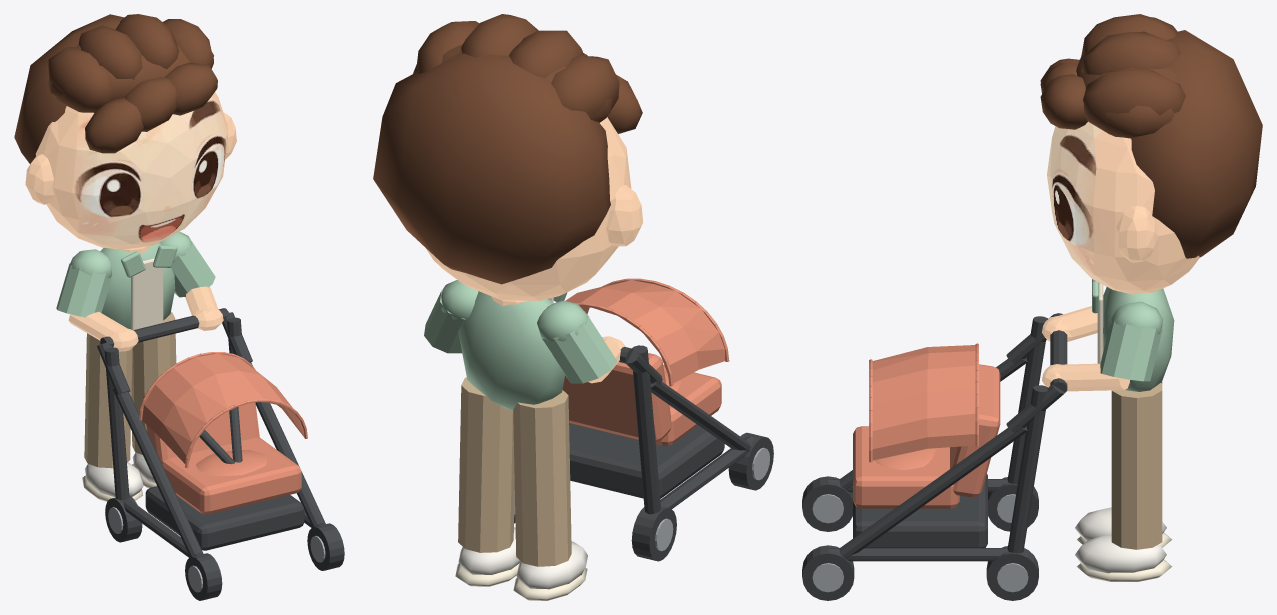
File: person-stroller.glb
3 renders of one model, left to right at view 1: azimuth 30°, elevation 25°; view 2: azimuth 150°, elevation 25°; view 3: azimuth 270°, elevation 25°, orthographic. The views are drawn at different scales.
Visible parts, largest first — view 1: Parent neck, Parent smooth head no sculpted features; view 2: Parent neck, Parent smooth head no sculpted features; view 3: Parent neck, Parent smooth head no sculpted features.
Boxes of the visible parts, x1,y1,x2,y2 form: Parent neck: (56,231,344,600); Parent smooth head no sculpted features: (14,14,236,249); Parent neck: (424,278,773,600); Parent smooth head no sculpted features: (373,14,643,300); Parent neck: (802,279,1174,600); Parent smooth head no sculpted features: (1040,14,1262,294).
Bounding box in the file's own units: 0.7669 × 1.64 × 1.28.
Materials: 10 (1 with a texture image).
